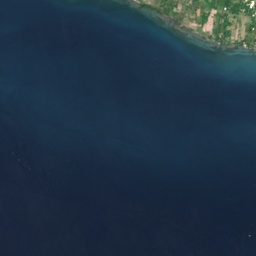Marine Debris: (247, 234, 252, 238)
